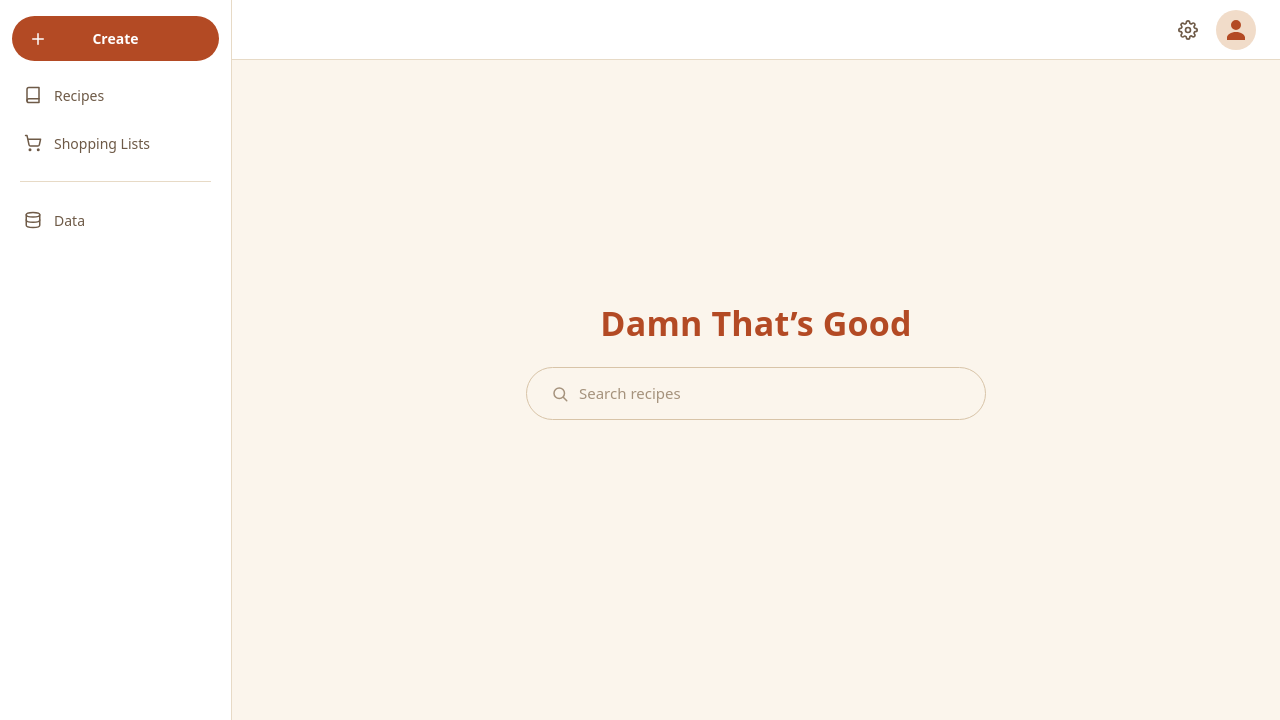
<AvatarMenu> › stays silent (no error UI) when GET /api/me fails
The width and height of the screenshot is (1280, 720).
Expected: the navigation bar named "primary" is shown, [0,0,232,719]
Click the button named "account" at (1236, 30), box [1216,10,1256,50]
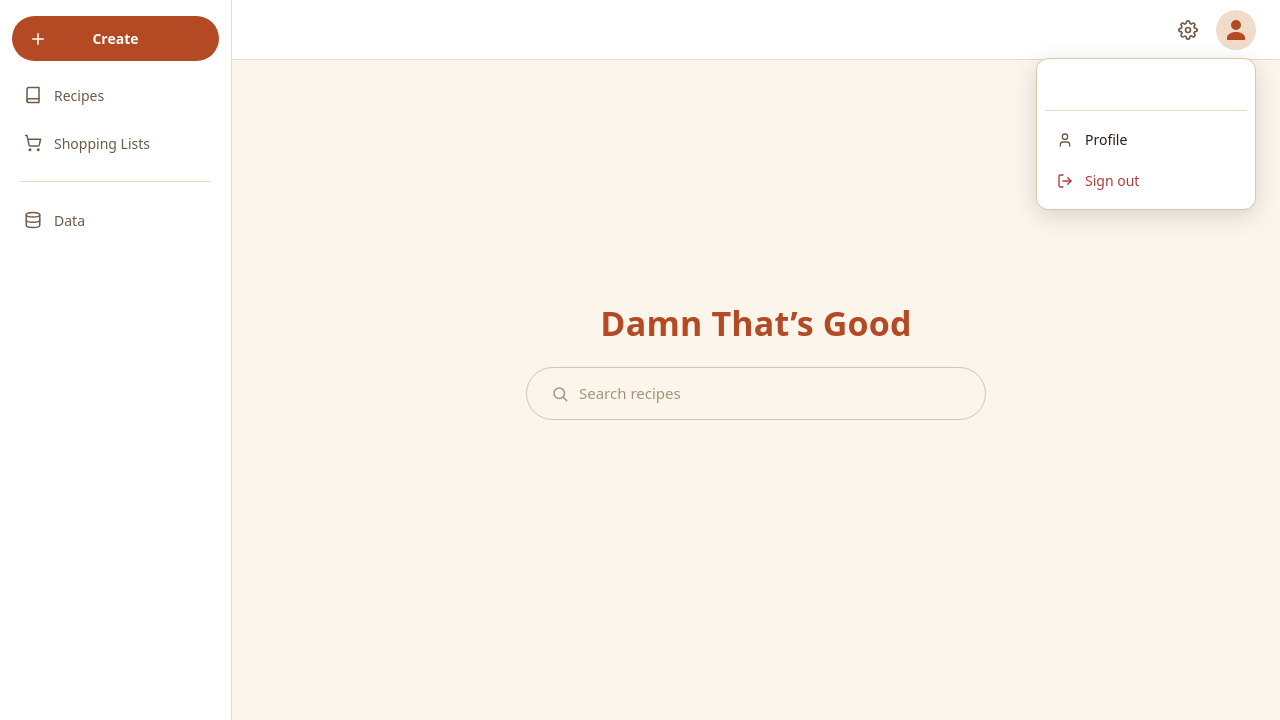
Expected: the button "Profile" is shown, [1045,119,1247,160]
